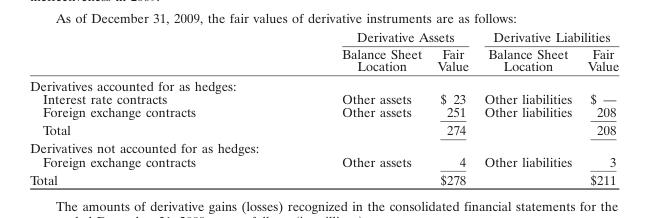table: (29, 28, 618, 187)
table column: (29, 28, 268, 187), (268, 28, 428, 187), (475, 28, 578, 187), (428, 28, 475, 187), (578, 28, 618, 187)
table column header: (29, 28, 618, 75)
table projected row header: (29, 75, 618, 91), (29, 138, 618, 154)
table row: (29, 45, 618, 75), (29, 120, 618, 138), (29, 28, 618, 45), (29, 170, 618, 187), (29, 75, 618, 91), (29, 104, 618, 120), (29, 138, 618, 154), (29, 154, 618, 170), (29, 91, 618, 104)
table spanning cell: (268, 28, 475, 45), (475, 28, 618, 45)
